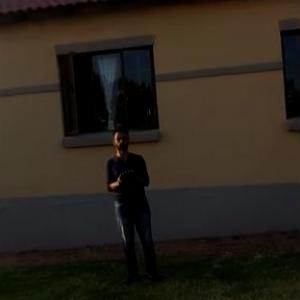follow: (104, 120, 165, 288)
